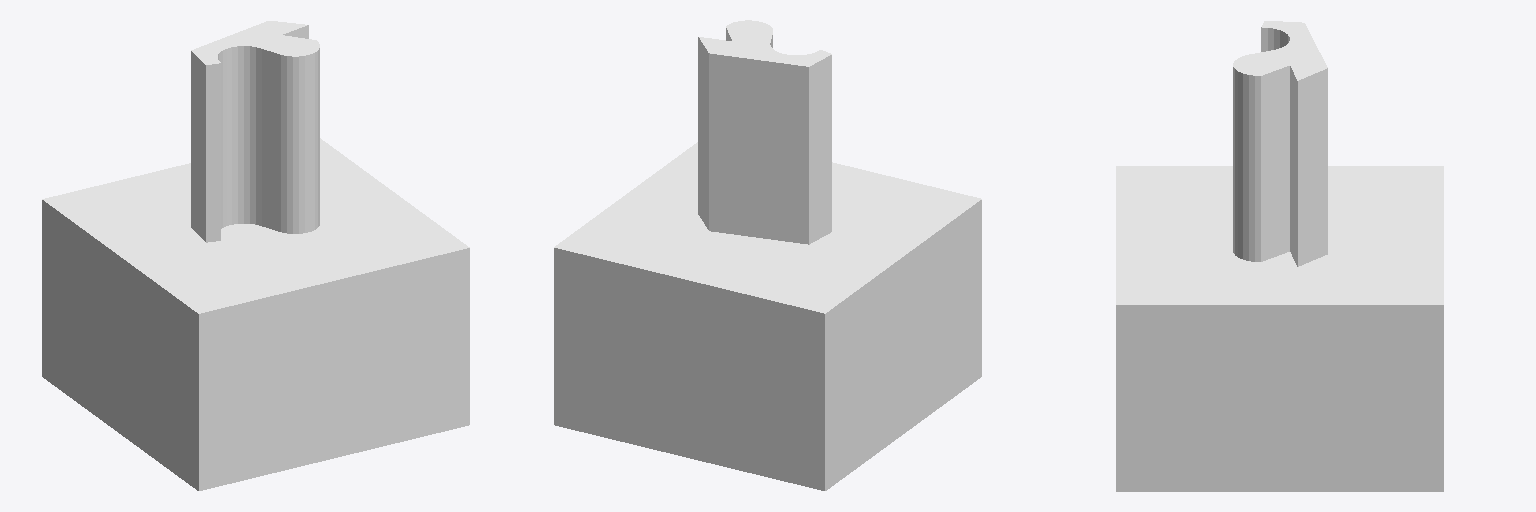
robot.urdf — random:
<robot name="random">
	<link name="_name">
		<visual>
			<origin rpy="0 0 0" xyz="-4.0494021777814824e-05 -2.320872997529838e-05 -0.006240687247685955" />
			<geometry>
				<mesh filename="random.obj" scale=".001 .001 .001" />
			</geometry>
			<material name="texture">
				<color rgba="1.0 1.0 1.0 1.0" />
			</material>
		</visual>
		<collision>
			<geometry>
				<mesh filename="random_vhacd.obj" scale=".001 .001 .001" />
			</geometry>
		<origin rpy="0 0 0" xyz="-4.0494021777814824e-05 -2.320872997529838e-05 -0.006240687247685955" /></collision>
		<inertial>
			<mass value="1.0" />
			<inertia ixx="1.0" ixy="0.0" ixz="0.0" iyy="1.0" iyz="0.0" izz="1.0" />
		</inertial>
	</link>
</robot>

--- Render facts (derived) ---
Views: 3 orthographic renders of the robot side by side, from view 1: azimuth 30°, elevation 25°; view 2: azimuth 150°, elevation 25°; view 3: azimuth 270°, elevation 25°.
Model random with 1 links and 0 joints (none), rooted at _name, posed every joint at zero.
Visible links, largest first — view 1: _name; view 2: _name; view 3: _name.
Boxes of the visible links, <box> form: _name: <box>42,21,469,490</box>; _name: <box>554,20,981,490</box>; _name: <box>1116,21,1443,491</box>.
Bounding box of the posed robot: 0.016 × 0.016 × 0.02 m (x, y, z).
Meshes: 1 distinct files referenced, 1 mesh visuals loaded (1 OBJ).